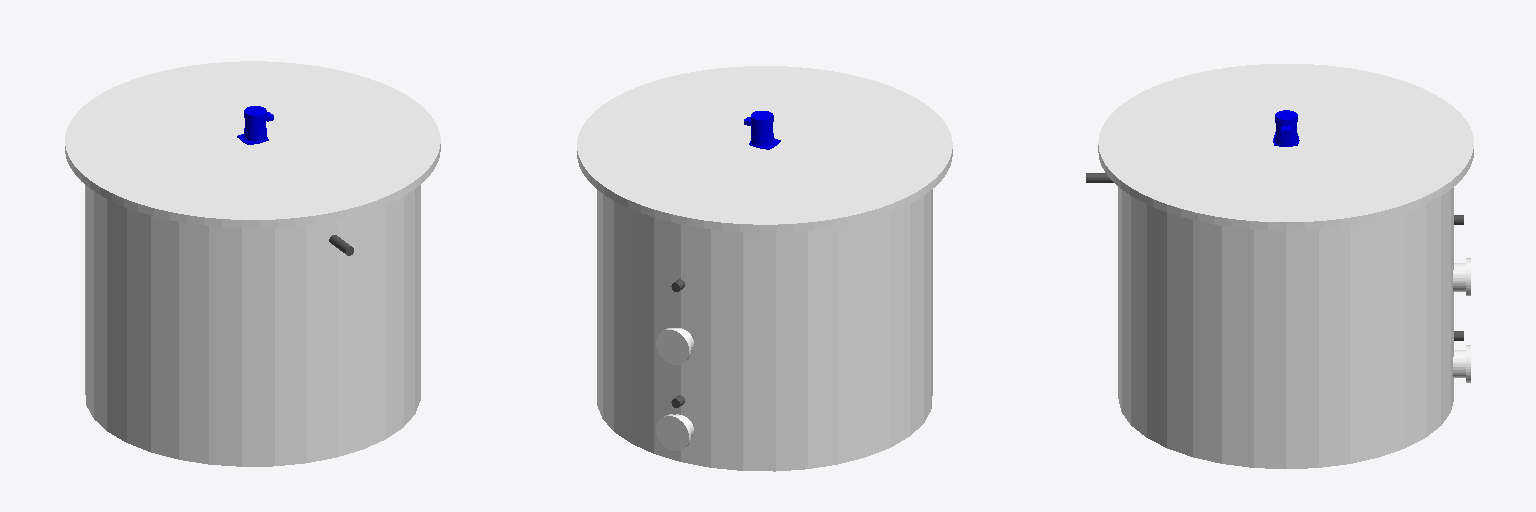
The model's file is EGSB-fanyingqi.obj.
3 renders of one model, left to right at view 1: azimuth 30°, elevation 25°; view 2: azimuth 150°, elevation 25°; view 3: azimuth 270°, elevation 25°, orthographic.
Parts seen in each view (by area): view 1: NONE_DC_Brep; view 2: NONE_DC_Brep; view 3: NONE_DC_Brep.
Part boxes in pixels (x1,y1,x2,y2): NONE_DC_Brep: (65,61,440,466); NONE_DC_Brep: (577,66,952,471); NONE_DC_Brep: (1086,64,1473,468).
Size of the model in its own units: 8270 by 6912 by 8547.